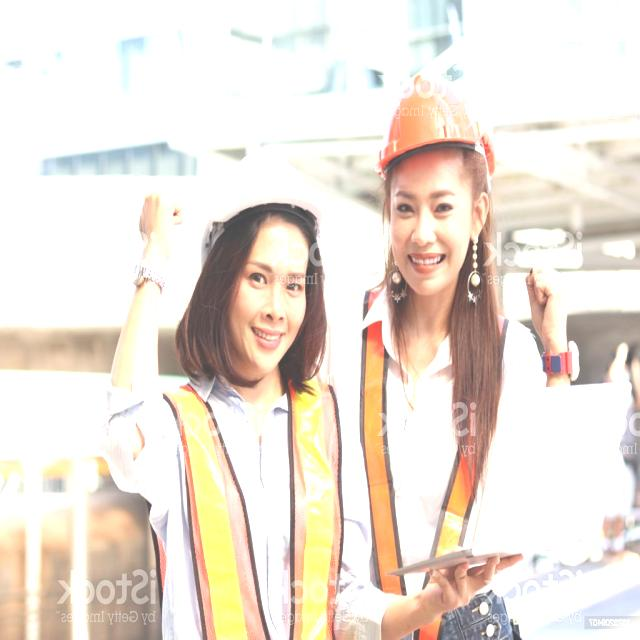helmet: (196, 129, 328, 258), (376, 60, 506, 182)
no-goggles: (385, 180, 479, 230), (224, 260, 322, 300)
vest: (352, 279, 516, 640), (146, 365, 340, 640)
